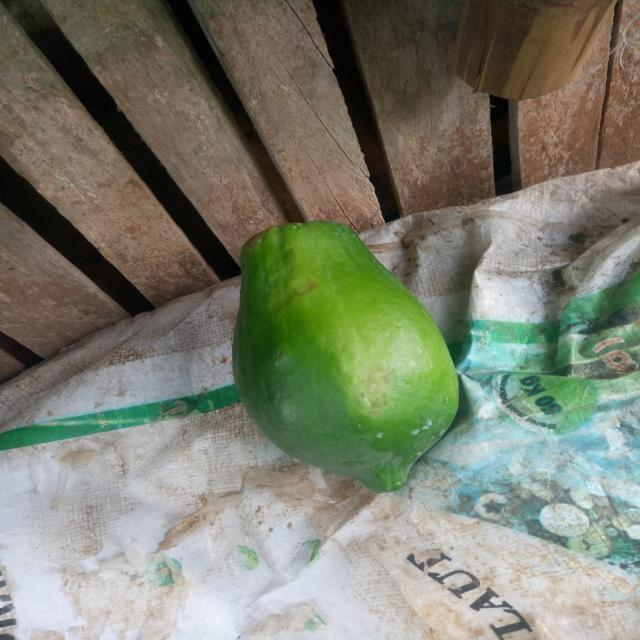Pepaya unrippen: (217, 205, 483, 498)
